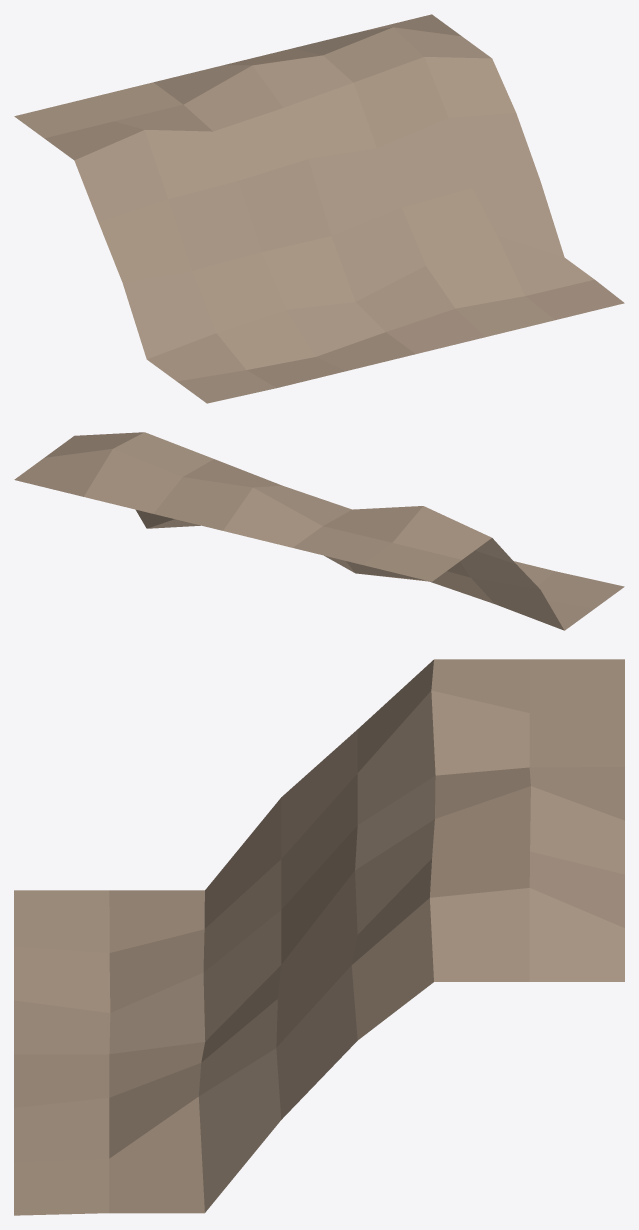
File: Groborchik_RiverBank_2m_2.fbx
3 renders of one model, top to bottom at view 1: azimuth 30°, elevation 25°; view 2: azimuth 150°, elevation 25°; view 3: azimuth 270°, elevation 25°, orthographic. The views are drawn at different scales.
Visible parts, largest first — view 1: 2m_2; view 2: 2m_2; view 3: 2m_2.
Boxes of the visible parts, left/top/right/bottom form: 2m_2: left=14, top=14, right=624, bottom=403; 2m_2: left=14, top=432, right=624, bottom=630; 2m_2: left=14, top=659, right=624, bottom=1215.
Size of the model in its own units: 1000 by 415 by 800.
